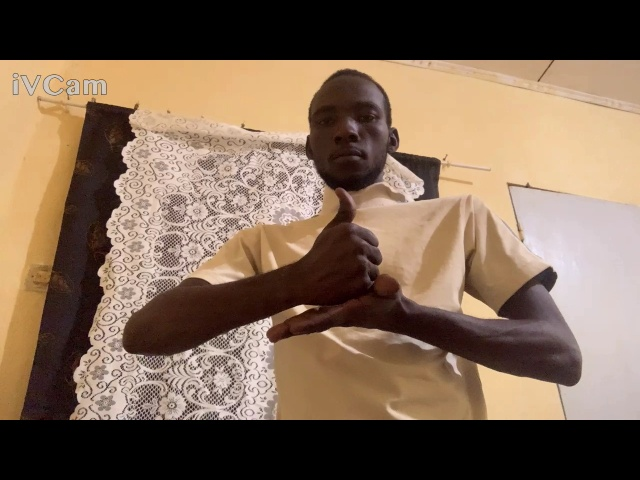aide: (265, 183, 432, 347)
